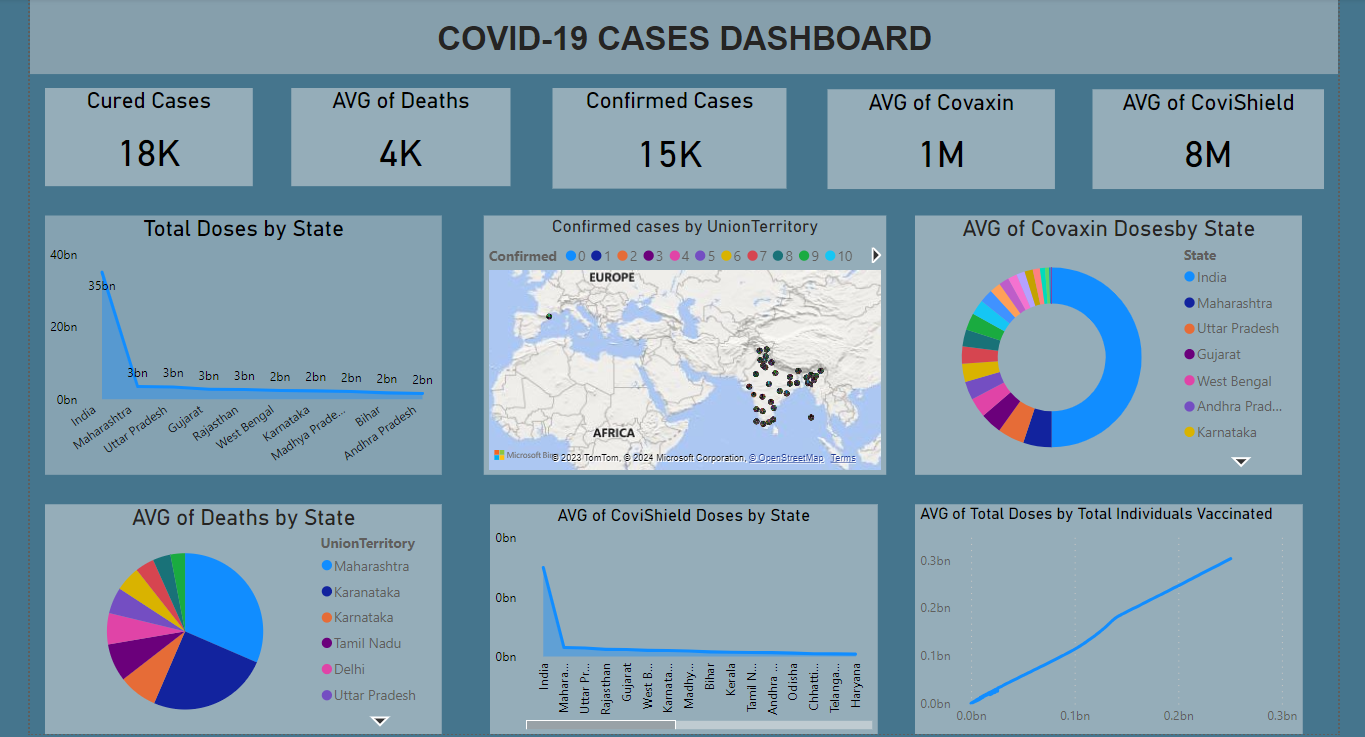

What the dashboard file says about the page in this screenshot:
{"tool":"powerbi","page":{"name":"Page 1","canvas":[1280,720],"ordinal":0},"visuals":[{"type":"card","title":"Cured Cases","fields":{"Values":["CountNonNull(Covid 19_india.Cured)"]},"box":[15.1,87.8,203.1,96.1],"z":0},{"type":"card","title":"AVG of Deaths","fields":{"Values":["Avg(Covid 19_india.Deaths)"]},"box":[255.2,87.8,214.1,96.1],"z":1000},{"type":"card","title":"Confirmed Cases","fields":{"Values":["Count(Covid 19_india.Confirmed)"]},"box":[510.5,87.8,229.2,98.8],"z":2000},{"type":"card","title":"AVG of  Covaxin","fields":{"Values":["Avg(Covid_vaccine_statewise. Covaxin (Doses Administered))"]},"box":[779.4,89.2,222.3,97.4],"z":3000},{"type":"textbox","box":[0,0,1280.3,74.1],"z":4000},{"type":"card","title":"AVG of CoviShield","fields":{"Values":["Avg(Covid_vaccine_statewise.CoviShield (Doses Administered))"]},"box":[1038.8,89.2,226.4,97.4],"z":5000},{"type":"areaChart","title":"Total Doses by State","fields":{"Category":["Covid_vaccine_statewise.State"],"Y":["Sum(Covid_vaccine_statewise.Total Doses Administered)"]},"box":[15.1,212.7,388.3,253.9],"z":6000},{"type":"donutChart","title":"AVG of  Covaxin Dosesby State","fields":{"Category":["Covid_vaccine_statewise.State"],"Y":["Avg(Covid_vaccine_statewise. Covaxin (Doses Administered))"]},"box":[865.9,212.7,378.7,253.9],"z":7000},{"type":"pieChart","title":"AVG of Deaths by State","fields":{"Category":["Covid 19_india.UnionTerritory"],"Y":["Avg(Covid 19_india.Deaths)"]},"box":[15.1,495.4,388.3,225],"z":8000},{"type":"stackedAreaChart","title":"AVG of CoviShield Doses by State","fields":{"Category":["Covid_vaccine_statewise.State"],"Y":["Avg(Covid_vaccine_statewise.CoviShield (Doses Administered))"]},"box":[450,495,379,225],"z":9000},{"type":"map","title":"Confirmed cases by UnionTerritory ","fields":{"Category":["Covid 19_india.UnionTerritory"],"Series":["Covid 19_india.Confirmed"]},"box":[443.2,212.7,393.8,253.9],"z":10000},{"type":"lineChart","title":"AVG of Total Doses by Total Individuals Vaccinated","fields":{"Category":["Covid_vaccine_statewise.Total Individuals Vaccinated"],"Y":["Avg(Covid_vaccine_statewise.Total Doses Administered)"]},"box":[866,495,379,225],"z":11000}]}

Visuals, with their boxes in screenshot pixels (x1, y1, x2, y2):
"Cured Cases" card: (left=51, top=88, right=255, bottom=185)
"AVG of Deaths" card: (left=293, top=88, right=509, bottom=185)
"Confirmed Cases" card: (left=550, top=88, right=781, bottom=188)
"AVG of  Covaxin" card: (left=821, top=90, right=1045, bottom=188)
textbox: (left=36, top=0, right=1326, bottom=75)
"AVG of CoviShield" card: (left=1082, top=90, right=1311, bottom=188)
"Total Doses by State" areaChart: (left=51, top=214, right=442, bottom=470)
"AVG of  Covaxin Dosesby State" donutChart: (left=908, top=214, right=1290, bottom=470)
"AVG of Deaths by State" pieChart: (left=51, top=499, right=442, bottom=726)
"AVG of CoviShield Doses by State" stackedAreaChart: (left=489, top=499, right=871, bottom=726)
"Confirmed cases by UnionTerritory " map: (left=482, top=214, right=879, bottom=470)
"AVG of Total Doses by Total Individuals Vaccinated" lineChart: (left=908, top=499, right=1290, bottom=726)
